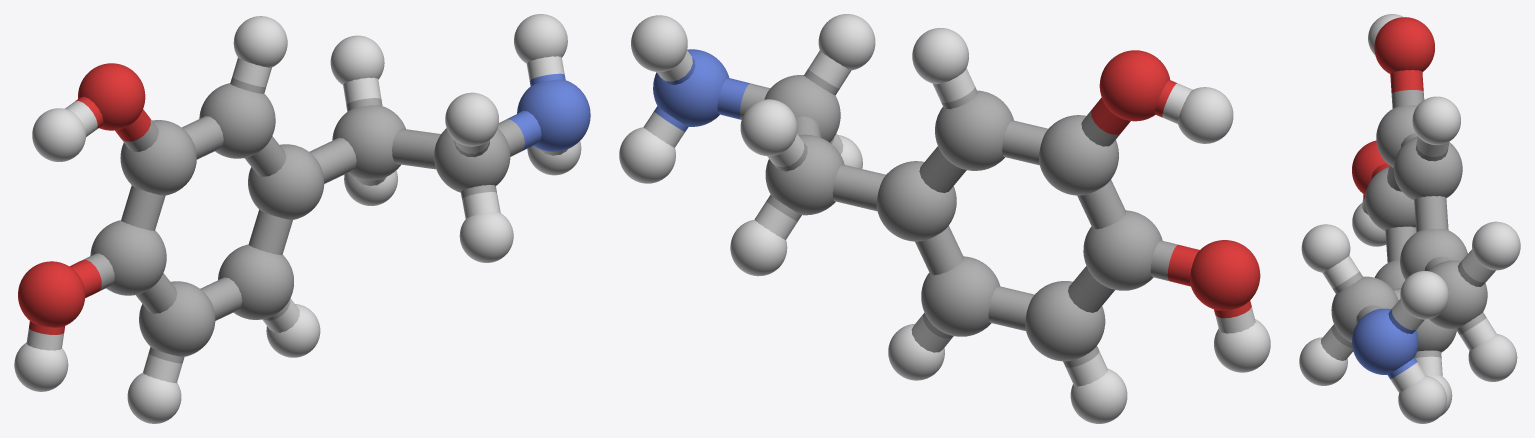
Rendered from 681-bas-color-print_NIH3D.glb.
3 views of the same model, side by side, from view 1: azimuth 30°, elevation 25°; view 2: azimuth 150°, elevation 25°; view 3: azimuth 270°, elevation 25° (orthographic). The views are drawn at different scales.
Parts seen in each view (by area): view 1: atoms, bonds; view 2: atoms, bonds; view 3: atoms, bonds.
Part boxes in pixels (<box>): atoms: <box>14,14,590,423</box>; bonds: <box>26,56,567,382</box>; atoms: <box>619,14,1270,423</box>; bonds: <box>643,50,1255,386</box>; atoms: <box>1299,14,1520,423</box>; bonds: <box>1321,70,1496,392</box>.
Bounding box in the file's own units: 9.02 × 5.32 × 3.27.
